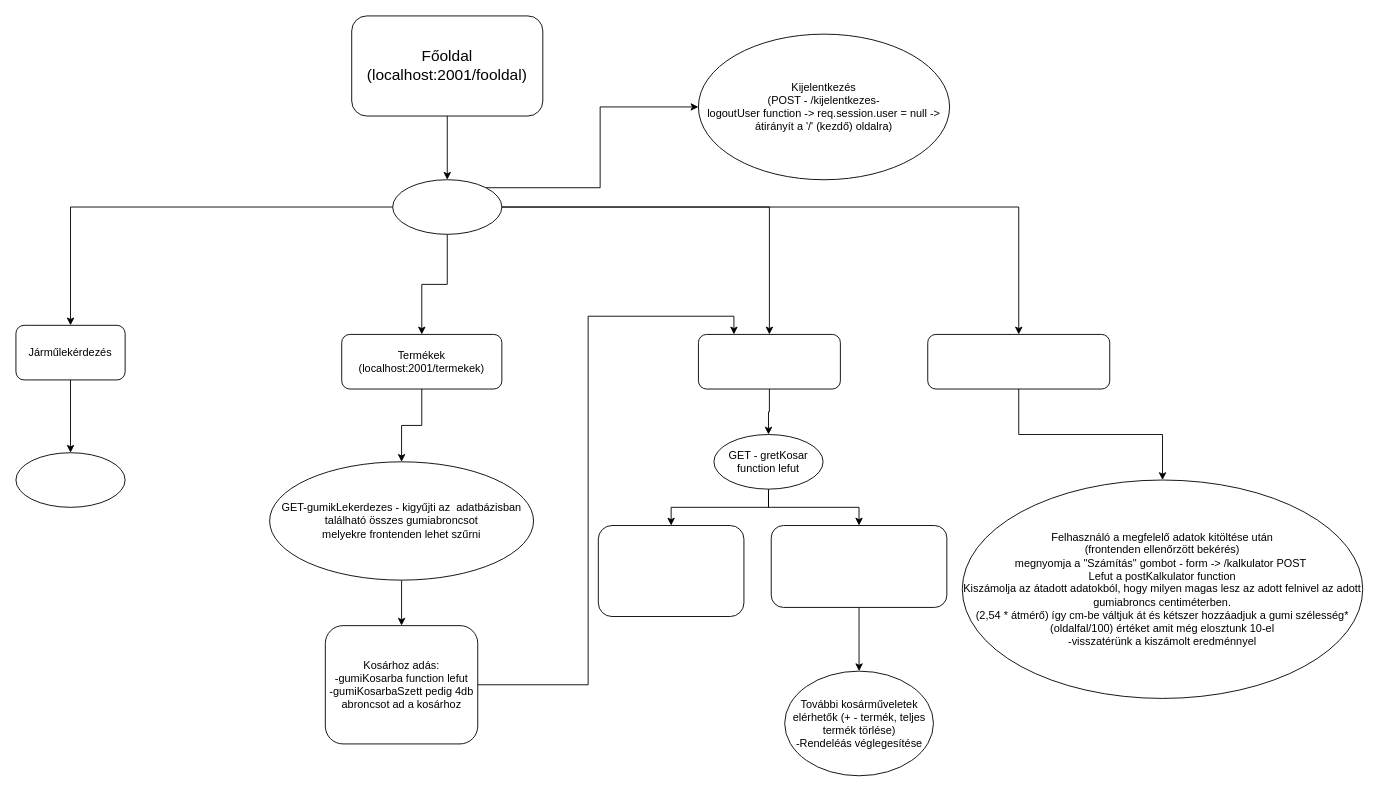
Some shapes in this 1379 by 792 pixel diagram are drawn without their labels. The shapes that lost their labels are listed below. From the top down, each one's box as (x1, y1, x2, y2) in pixels, then its label:
(392, 179, 502, 234): User bejelentkezve
(698, 334, 840, 389): Kosár (localhost:2001/kosar)
(927, 334, 1110, 389): Gumiabroncs magasság kalkulátor (localhost:2001/kalkulator) (GET)
(597, 525, 744, 617): A kosár üres (kosarTrtalma == undefined vagy kosarTaralma == "")
(770, 525, 947, 607): A kosár tartalma betöltésre kerül a szerver oldalon elmentett változóból
